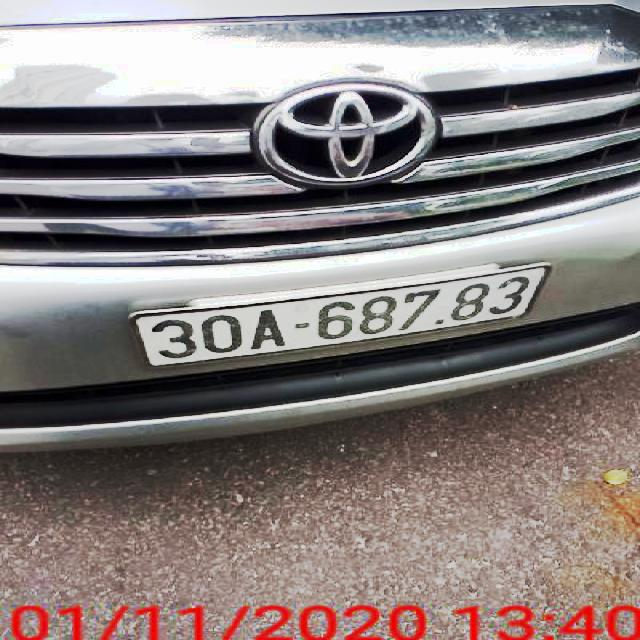license_plate: (134, 267, 549, 370)
